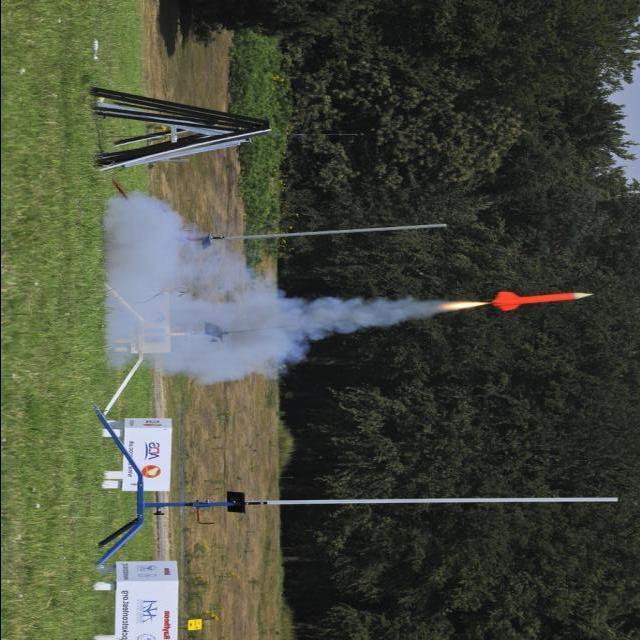missile: (489, 288, 600, 310)
